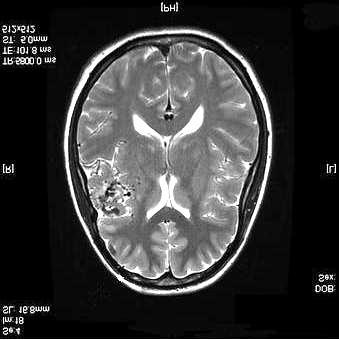Normal_Brain: (26, 2, 300, 340)
